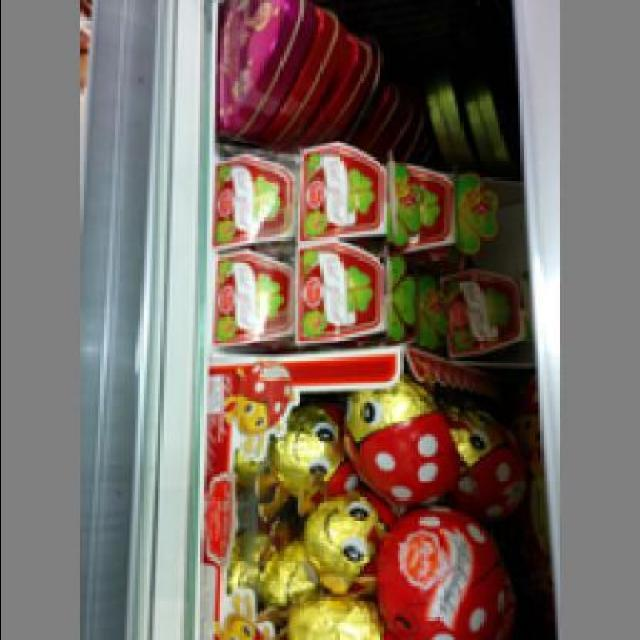Merendine: (374, 506, 517, 637), (349, 351, 454, 495), (217, 1, 317, 137), (300, 230, 391, 346), (304, 124, 388, 248), (210, 146, 306, 243), (220, 231, 303, 340), (271, 397, 354, 503), (306, 488, 397, 584), (400, 157, 457, 249)
